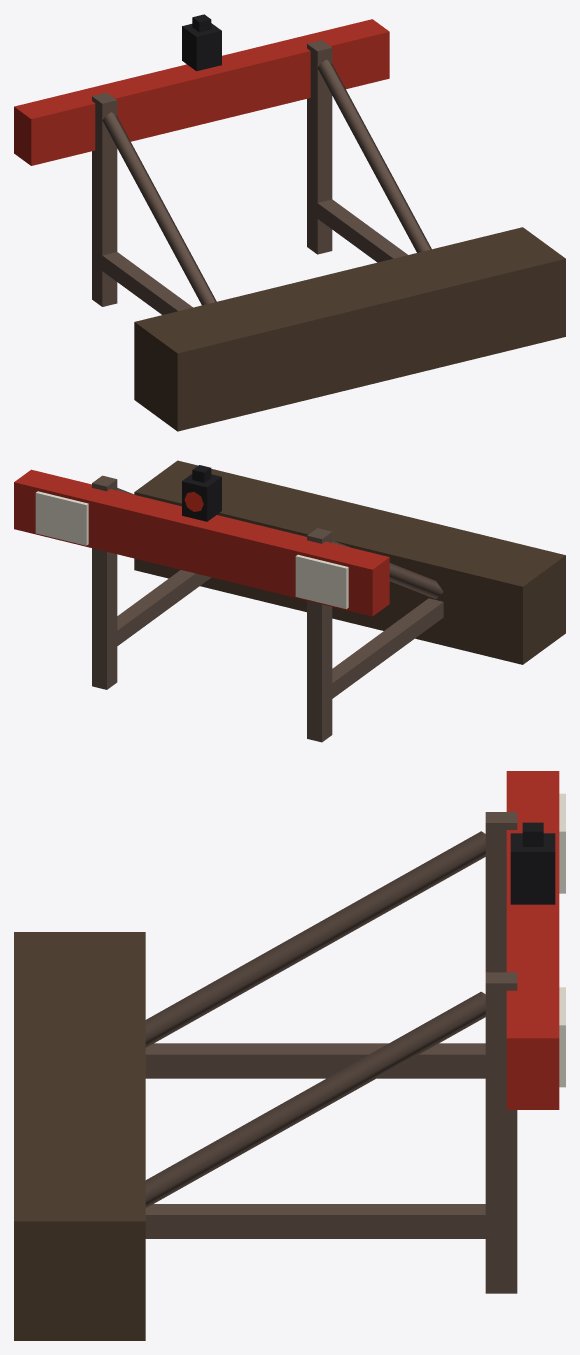
File: buffer_stop.glb
The picture shows the model from 3 angles, top to bottom: view 1: azimuth 30°, elevation 25°; view 2: azimuth 150°, elevation 25°; view 3: azimuth 270°, elevation 25°; orthographic projection. The views are drawn at different scales.
Parts seen in each view (by area): view 1: Body; view 2: Body; view 3: Body.
Part boxes in pixels (bbox=[...]): Body: bbox=[14, 14, 565, 431]; Body: bbox=[14, 460, 565, 742]; Body: bbox=[14, 771, 565, 1340].
Size of the model in its own units: 2.6 by 1.59 by 2.1.
